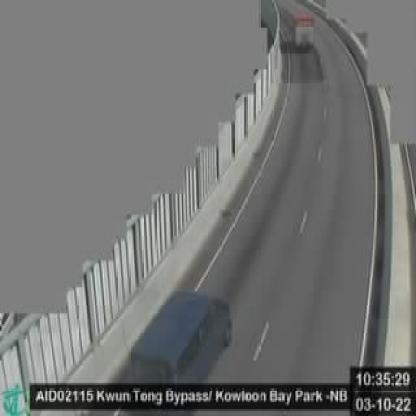Car: (131, 289, 230, 382), (291, 12, 313, 52)
